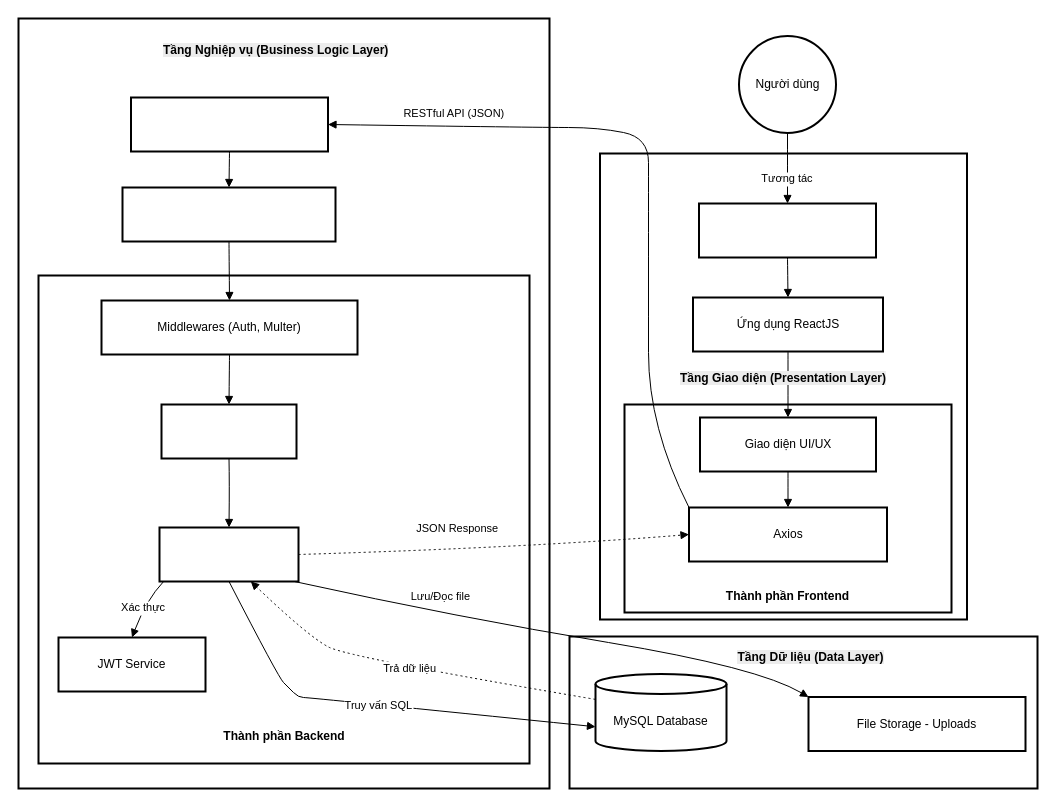
The diagram is 1055 pixels wide and 806 high, and some of its shapes have lost their labels. The shapes that lost their labels are listed below. From the top down, each one's centre as x and y in pixels, then its label:
pixel 229 124: NodeJS Web Server
pixel 228 214: ExpressJS Framework
pixel 787 230: Trình duyệt Web
pixel 228 431: API Routes
pixel 228 554: Controllers
